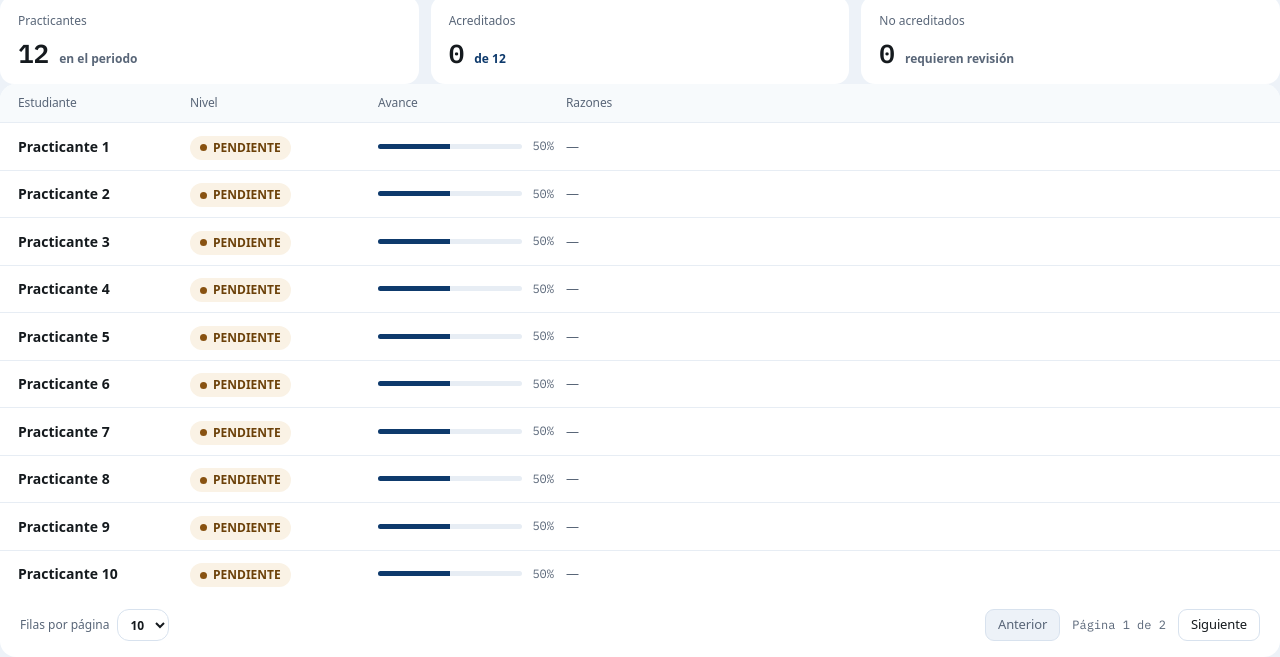
AccreditationPage — filas por página › al elegir 5 filas por página muestra 5
(page scrolled)
Select "5" in the dropdown labelled "Filas por página" at (144,625), box [118, 609, 170, 641]
(page scrolled)
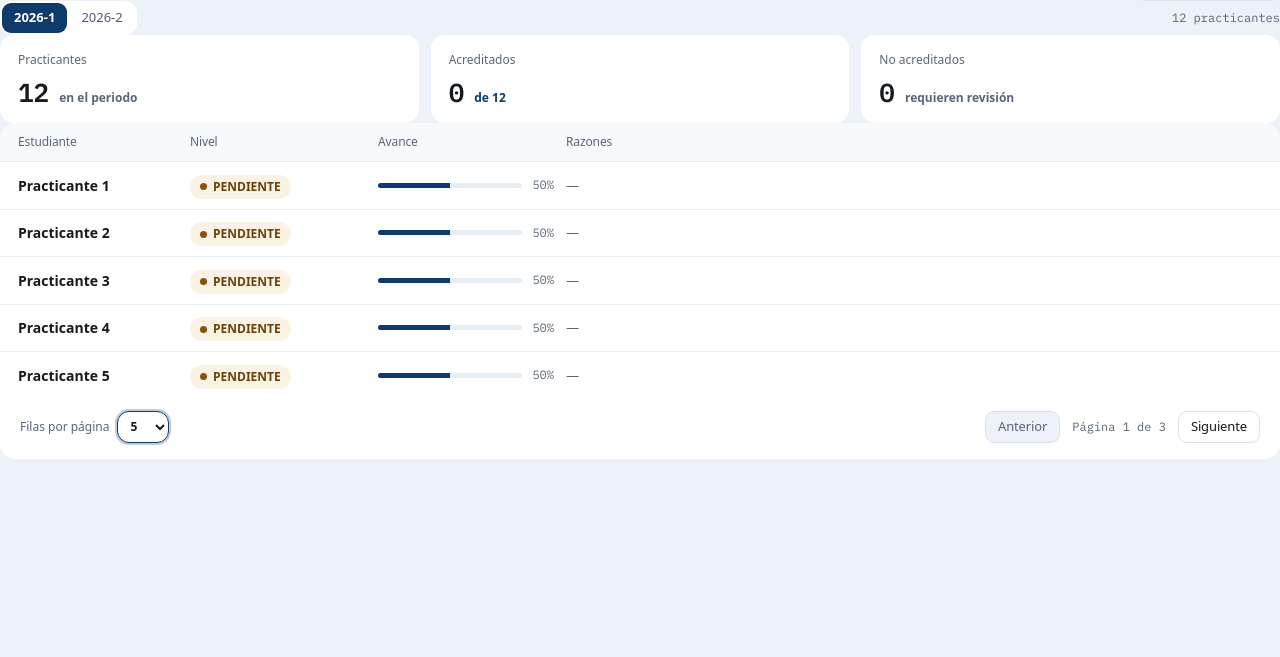
Check: the text "Practicante 1" is shown 5 times, box [18, 176, 110, 195]; [18, 223, 110, 242]; [18, 271, 110, 290]; [18, 318, 110, 337]; [18, 366, 110, 385]
